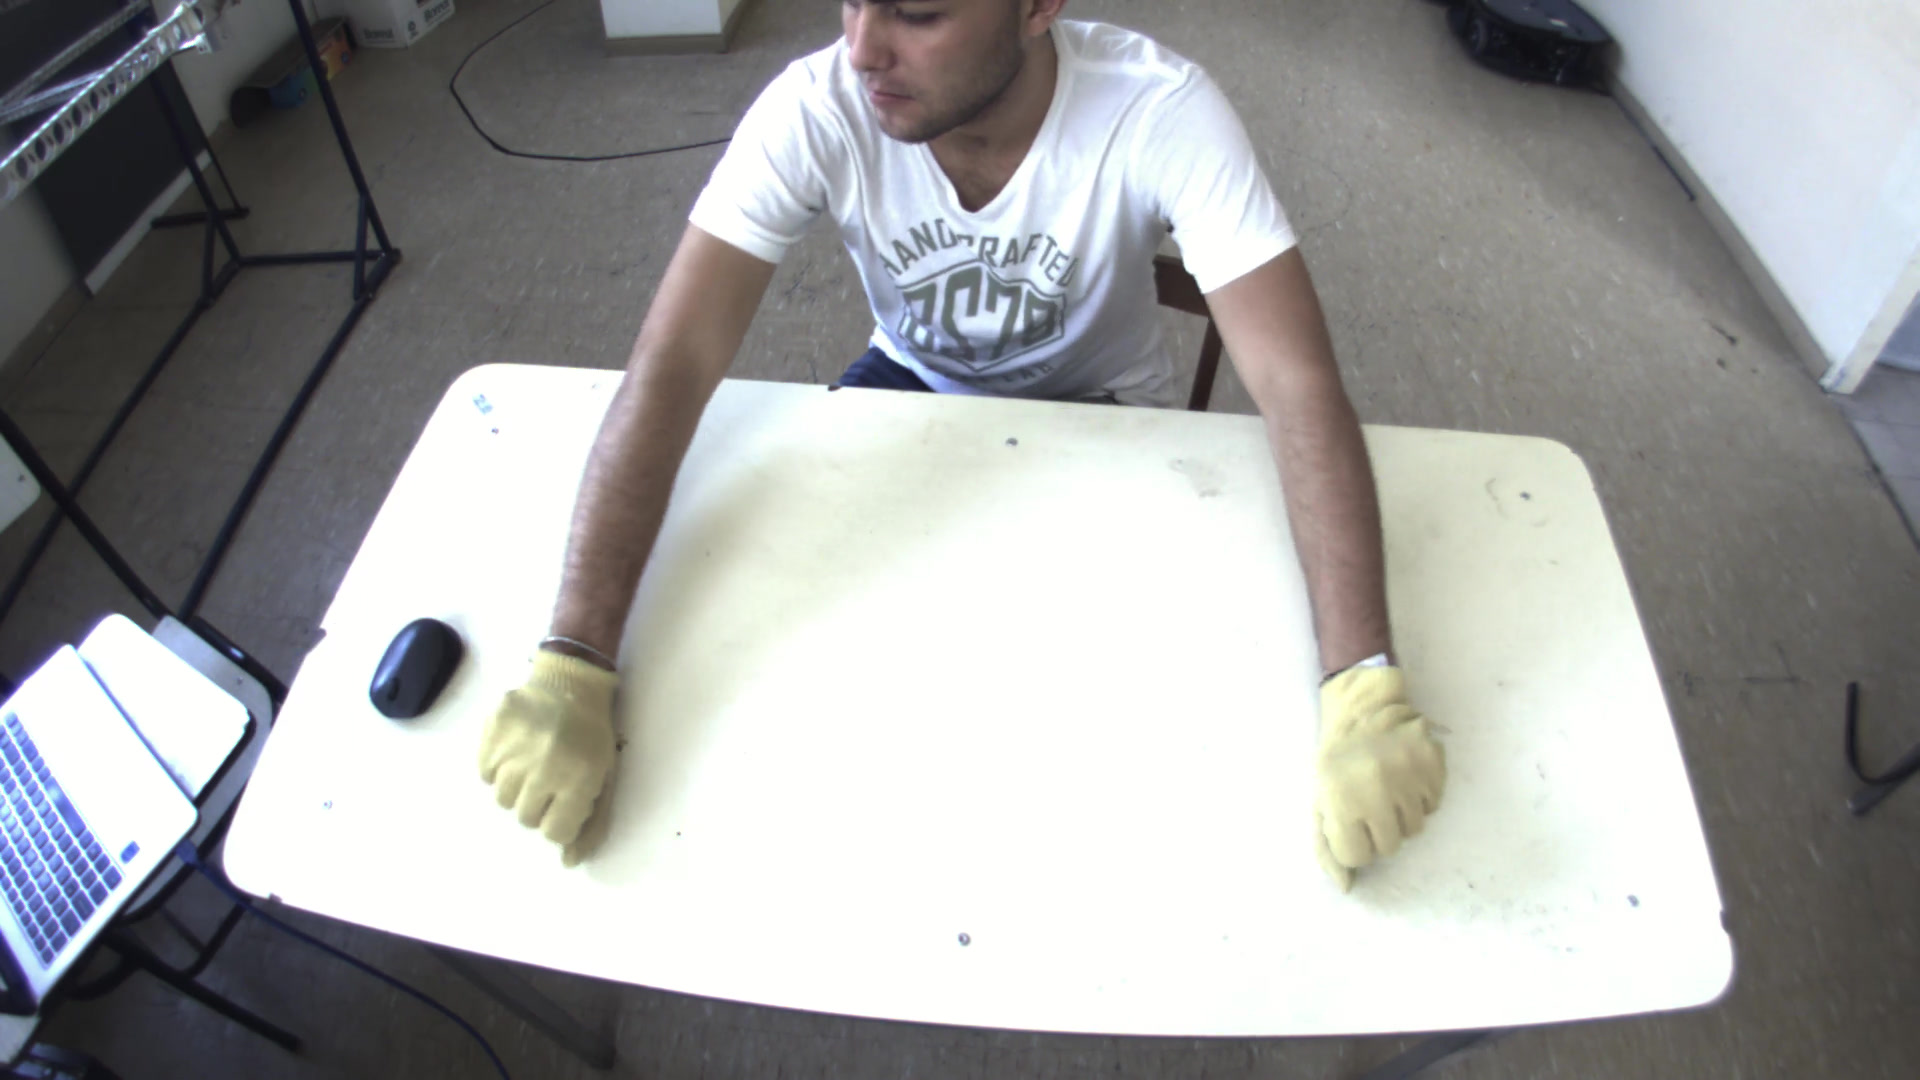hand: (467, 640, 636, 861), (1307, 657, 1466, 880)
